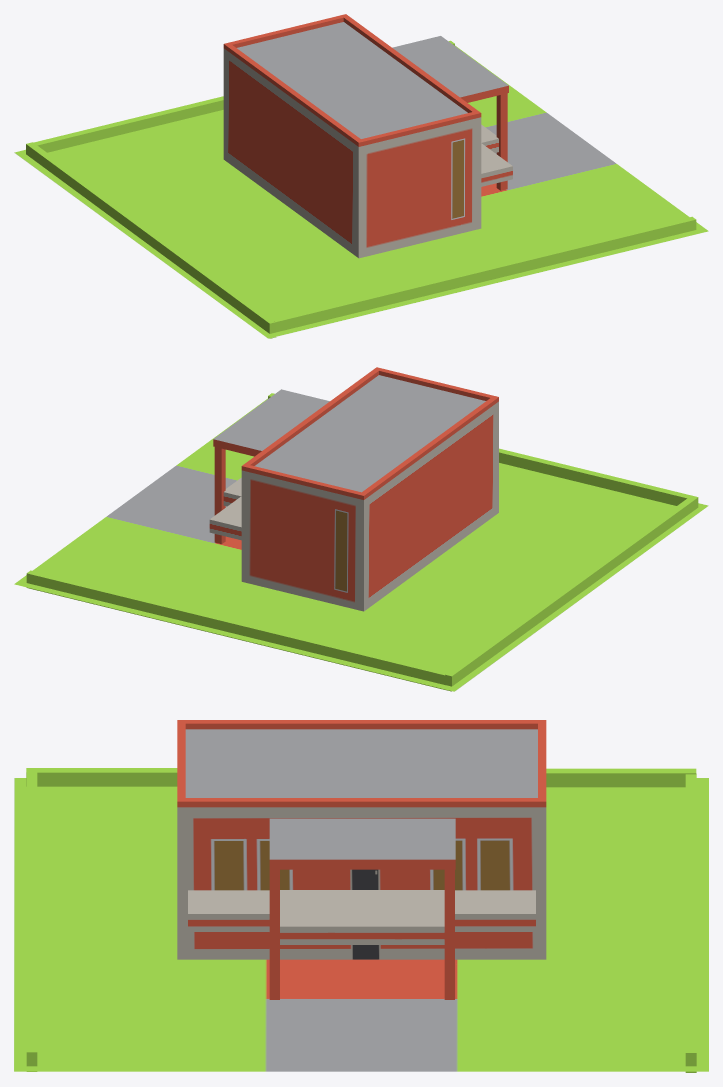
File: 1maison_2.glb
The picture shows the model from 3 angles, top to bottom: view 1: azimuth 30°, elevation 25°; view 2: azimuth 150°, elevation 25°; view 3: azimuth 270°, elevation 25°; orthographic projection. The views are drawn at different scales.
Visible parts, largest first — view 1: Plan; view 2: Plan; view 3: Plan.
Part boxes in pixels (bbox=[...]): Plan: bbox=[14, 14, 708, 338]; Plan: bbox=[14, 367, 708, 691]; Plan: bbox=[14, 720, 708, 1072].
Bounding box in the file's own units: 15 × 4.16 × 15.
1 material, 1 textured.
